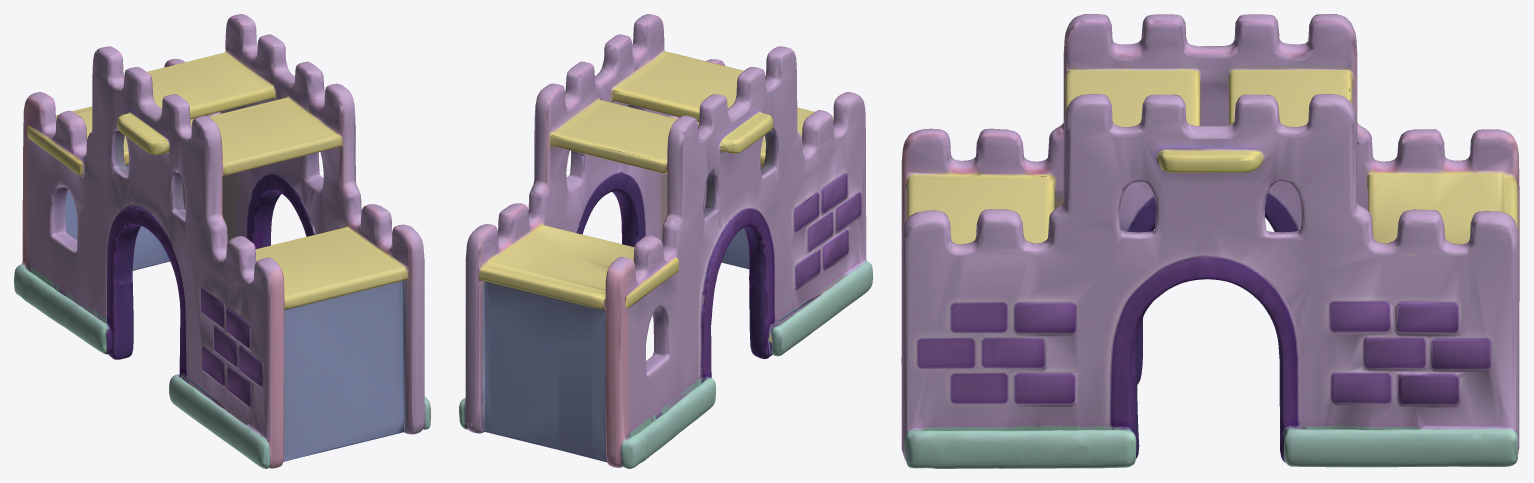
3 views of the same model, side by side, from view 1: azimuth 30°, elevation 25°; view 2: azimuth 150°, elevation 25°; view 3: azimuth 270°, elevation 25° (orthographic). The views are drawn at different scales.
Visible parts, largest first — view 1: repaired; view 2: repaired; view 3: repaired.
Part boxes in pixels (x1,y1,x2,y2): repaired: (14,14,430,468); repaired: (459,14,872,468); repaired: (901,14,1519,468).
Size of the model in its own units: 0.4146 by 0.6586 by 0.9994.
Materials: 1 (1 with a texture image).
